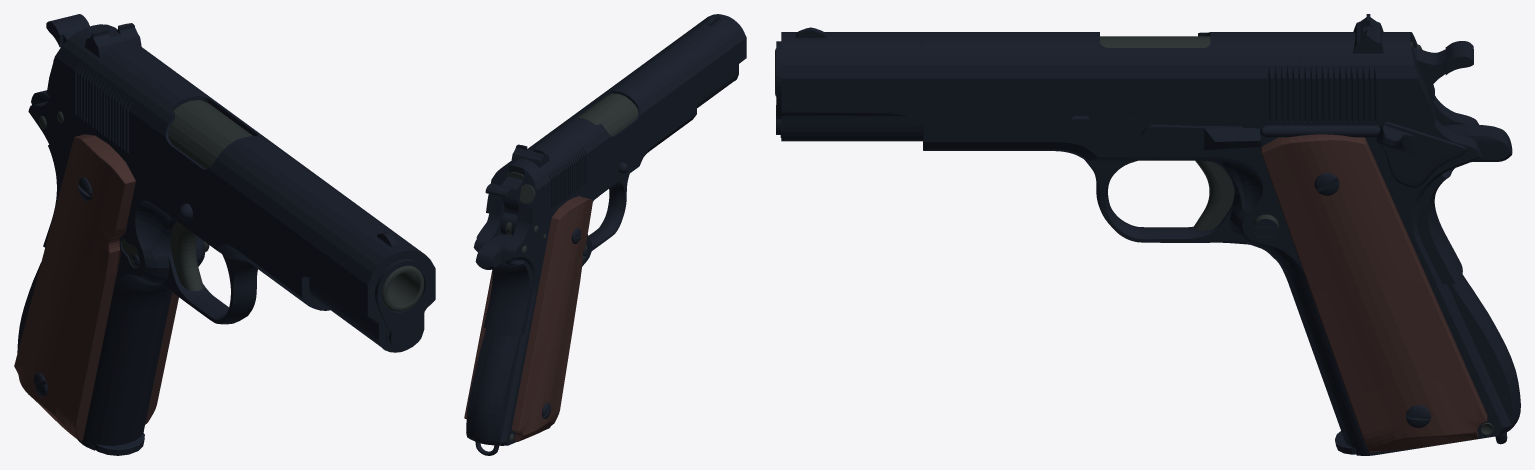
Rendered from Colt.FBX.
3 views of the same model, side by side, from view 1: azimuth 30°, elevation 25°; view 2: azimuth 150°, elevation 25°; view 3: azimuth 270°, elevation 25° (orthographic). The views are drawn at different scales.
Parts seen in each view (by area): view 1: Colt; view 2: Colt; view 3: Colt.
Part boxes in pixels (x1,y1,x2,y2): Colt: [14, 14, 435, 455]; Colt: [464, 14, 746, 455]; Colt: [775, 14, 1520, 455].
Bounding box in the file's own units: 0.1193 × 0.4592 × 0.7341.
